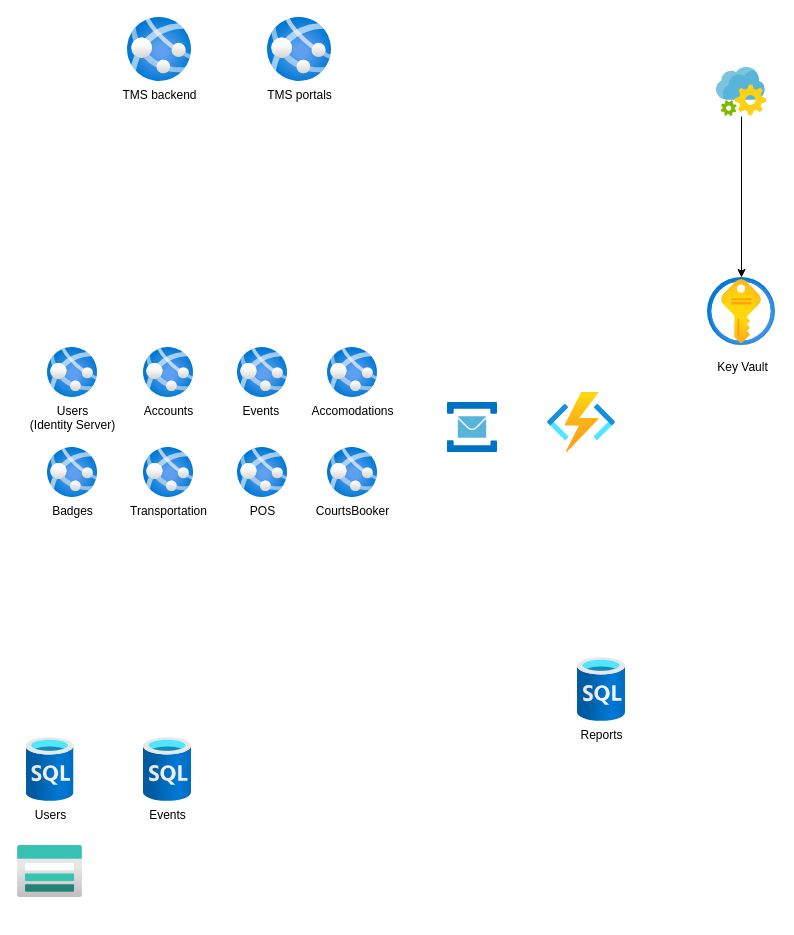
Some shapes in this 794 by 935 pixel diagram are drawn without their labels. Each missing label, with the centre of its shape:
"Blobs" goes at (x=49, y=871).
"Configuration" goes at (x=741, y=91).
"Event handlers" goes at (x=581, y=422).
"TMS events" goes at (x=472, y=427).
